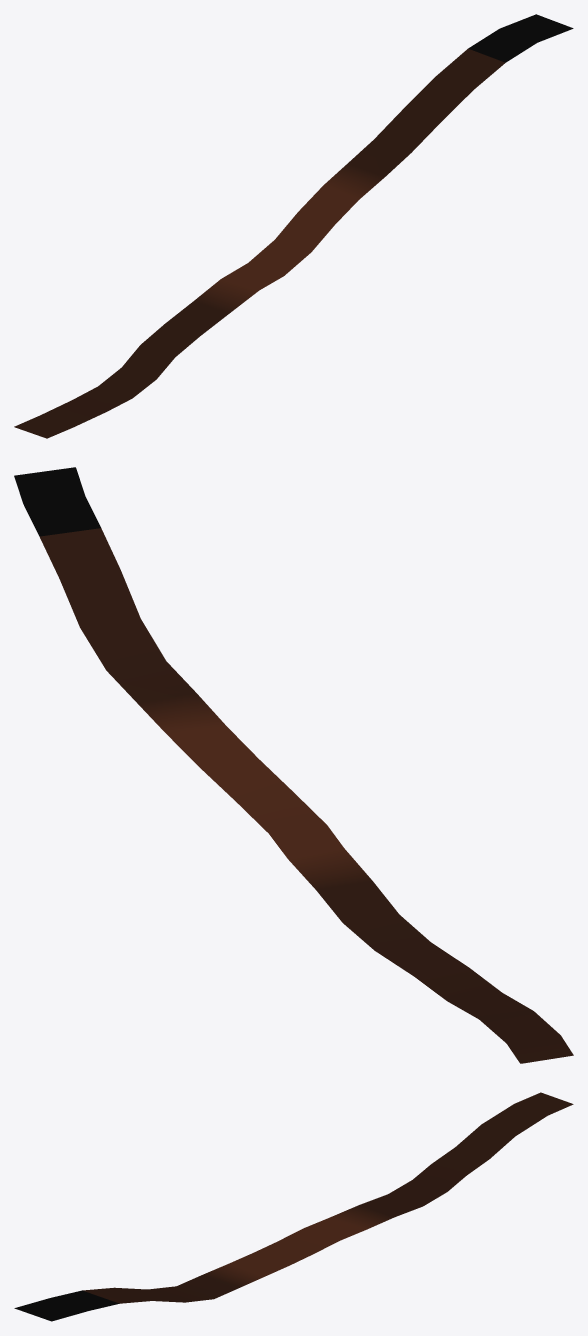
Rendered from field_spring_tree_outside_col2.fbx.
3 views of the same model, one above another, from view 1: azimuth 90°, elevation 25°; view 2: azimuth 150°, elevation 25°; view 3: azimuth 270°, elevation 25° (orthographic). The views are drawn at different scales.
Parts seen in each view (by area): view 1: field_spring_tree_outside_col2; view 2: field_spring_tree_outside_col2; view 3: field_spring_tree_outside_col2.
Part boxes in pixels (<box>): field_spring_tree_outside_col2: <box>14,14,573,438</box>; field_spring_tree_outside_col2: <box>14,467,573,1063</box>; field_spring_tree_outside_col2: <box>14,1092,573,1321</box>.
Bounding box in the file's own units: 1241 × 186 × 899.
